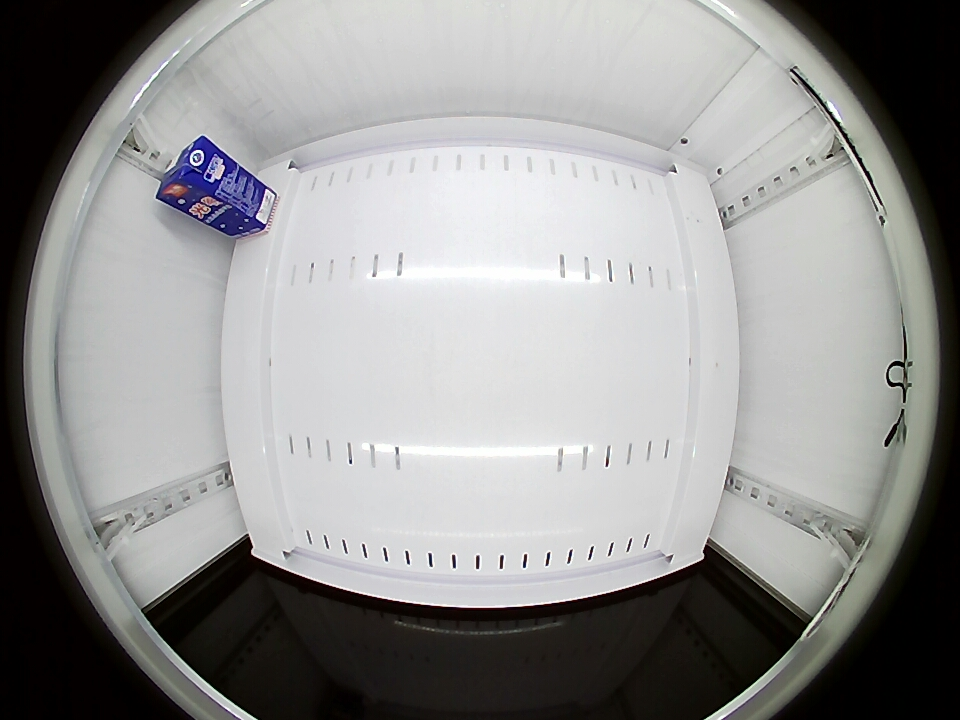bingqilinniunai: (156, 135, 232, 213)
